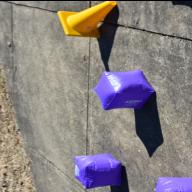cone: (56, 0, 116, 38)
cube: (93, 68, 155, 110), (74, 152, 122, 188), (154, 176, 192, 192)
